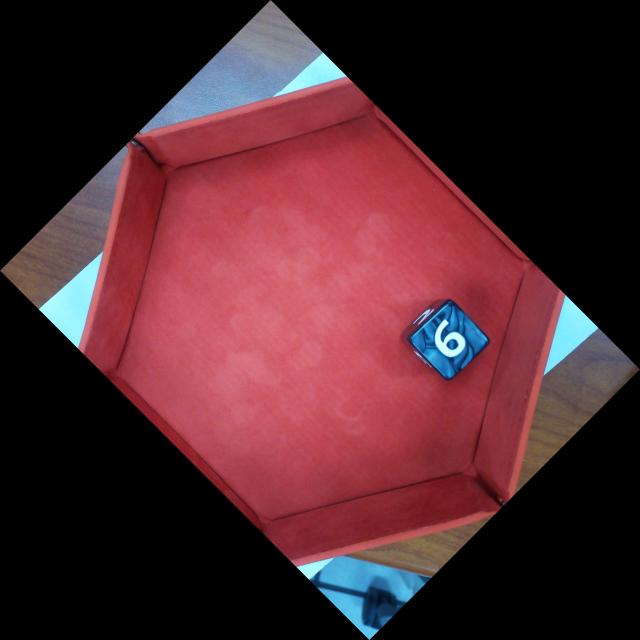dice: (407, 297, 491, 382)
